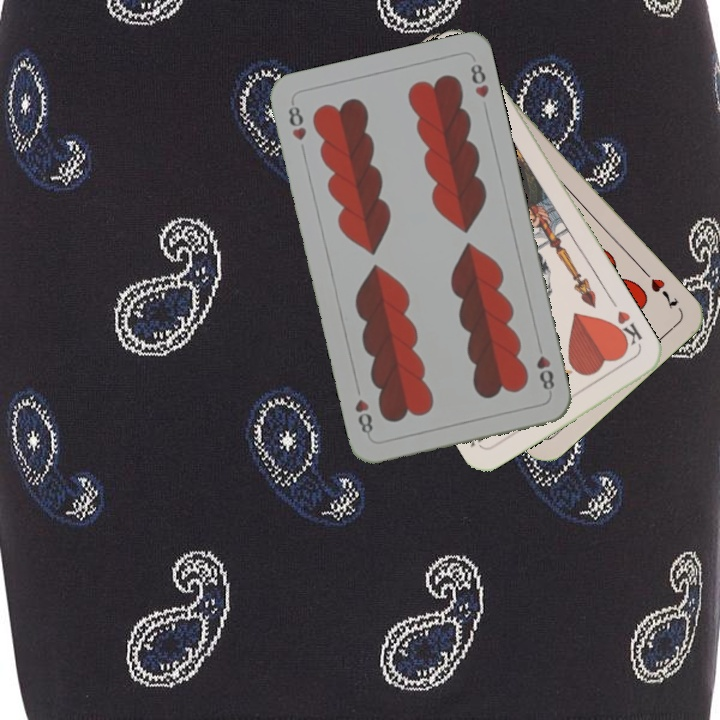H7: (638, 265, 681, 312)
H8: (284, 97, 309, 143), (532, 352, 557, 393)
HK: (607, 306, 645, 352)
